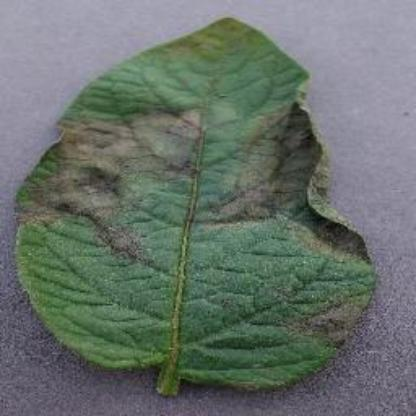Late-Blight: (6, 15, 374, 388)
